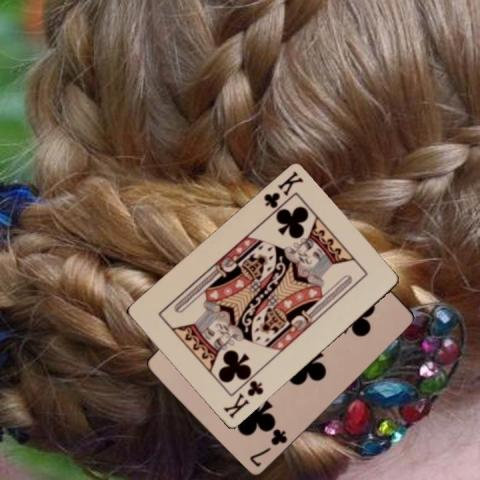7c: (247, 425, 289, 468)
Kc: (221, 378, 264, 421), (260, 168, 304, 210)
